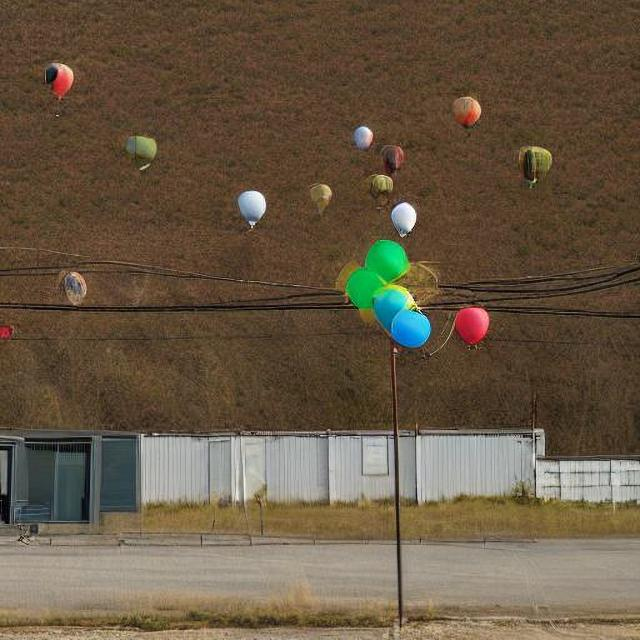balloon: (342, 228, 434, 356), (50, 269, 97, 313), (449, 303, 492, 346), (303, 172, 337, 217), (518, 144, 552, 188), (41, 60, 74, 101), (448, 95, 481, 129), (235, 188, 265, 224), (123, 134, 158, 164), (376, 141, 407, 174), (390, 200, 418, 234), (366, 172, 394, 197), (352, 124, 375, 150)
